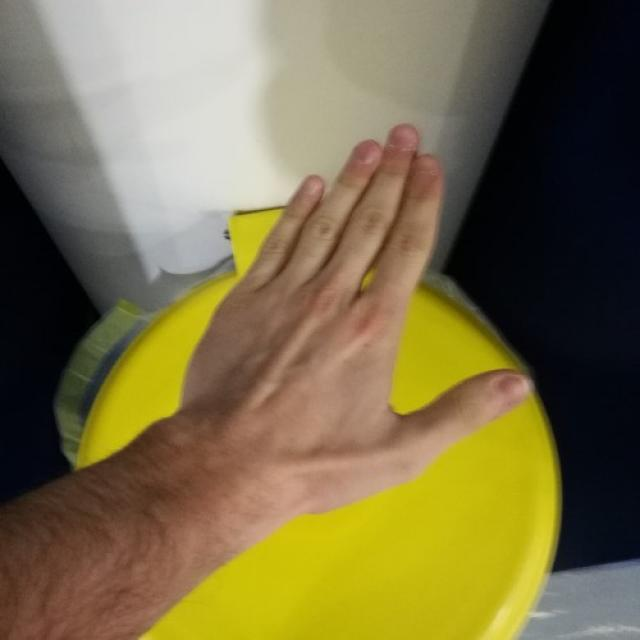paper: (187, 124, 532, 513)
